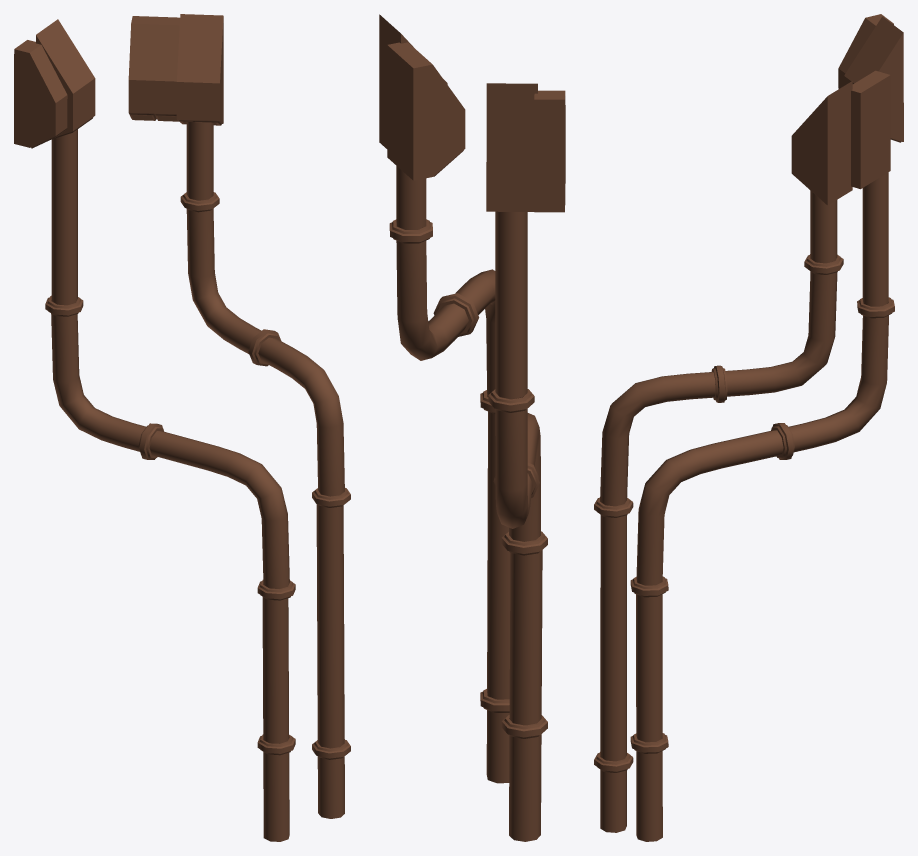
Rendered from Pipes.fbx.
3 views of the same model, side by side, from view 1: azimuth 30°, elevation 25°; view 2: azimuth 150°, elevation 25°; view 3: azimuth 270°, elevation 25° (orthographic). The views are drawn at different scales.
Parts seen in each view (by area): view 1: Pipe1_Geo, PipeBottom_Geo, Intake_Geo, PipeStraight_Geo, PipeCorner_Geo; view 2: Pipe1_Geo, PipeBottom_Geo, Intake_Geo, PipeStraight_Geo, PipeCorner_Geo, PipeFitting_Geo; view 3: Pipe1_Geo, PipeBottom_Geo, PipeCorner_Geo, Intake_Geo, PipeStraight_Geo.
Part boxes in pixels (<box>): Pipe1_Geo: <box>128,14,350,818</box>; PipeBottom_Geo: <box>138,423,295,841</box>; Intake_Geo: <box>14,19,95,148</box>; PipeStraight_Geo: <box>51,129,77,305</box>; PipeCorner_Geo: <box>51,313,146,451</box>; Pipe1_Geo: <box>379,14,510,783</box>; PipeBottom_Geo: <box>493,413,547,841</box>; Intake_Geo: <box>486,83,565,212</box>; PipeStraight_Geo: <box>495,211,527,398</box>; PipeCorner_Geo: <box>495,398,532,528</box>; PipeFitting_Geo: <box>488,389,534,412</box>; Pipe1_Geo: <box>594,70,890,832</box>; PipeBottom_Geo: <box>630,423,794,841</box>; PipeCorner_Geo: <box>788,315,888,452</box>; Intake_Geo: <box>838,14,903,142</box>; PipeStraight_Geo: <box>862,172,888,306</box>.
Bounding box in the file's own units: 138 × 488 × 181.
